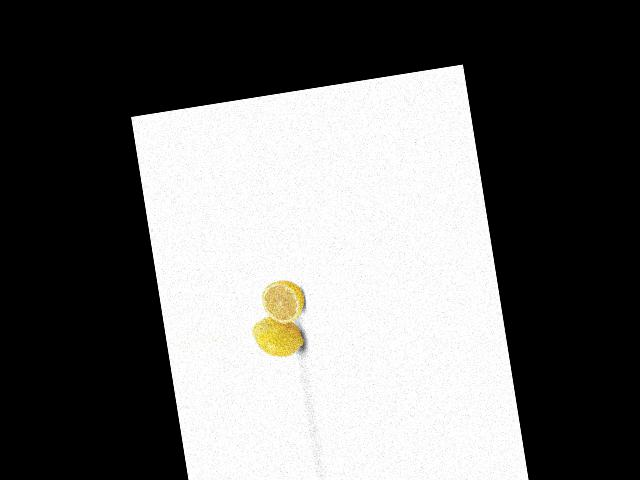lemon: (248, 309, 308, 364)
